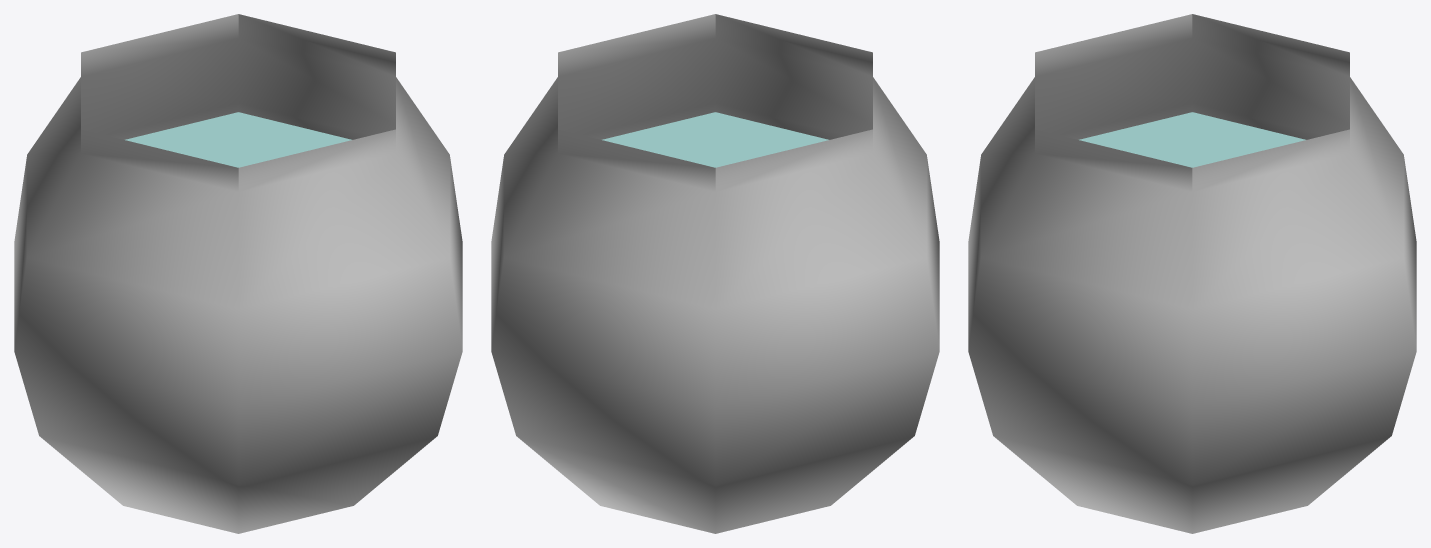
Rendered from FishBowl.fbx.
3 renders of one model, left to right at view 1: azimuth 30°, elevation 25°; view 2: azimuth 150°, elevation 25°; view 3: azimuth 270°, elevation 25°, orthographic.
Parts seen in each view (by area): view 1: Bowl, Water; view 2: Bowl, Water; view 3: Bowl, Water.
Boxes of the visible parts, box(x1,y1,x2,y2) form: Bowl: box(14, 14, 462, 533); Water: box(125, 112, 351, 167); Bowl: box(491, 14, 939, 533); Water: box(602, 112, 828, 167); Bowl: box(968, 14, 1416, 533); Water: box(1079, 112, 1305, 167).
Size of the model in its own units: 255 by 210 by 221.
